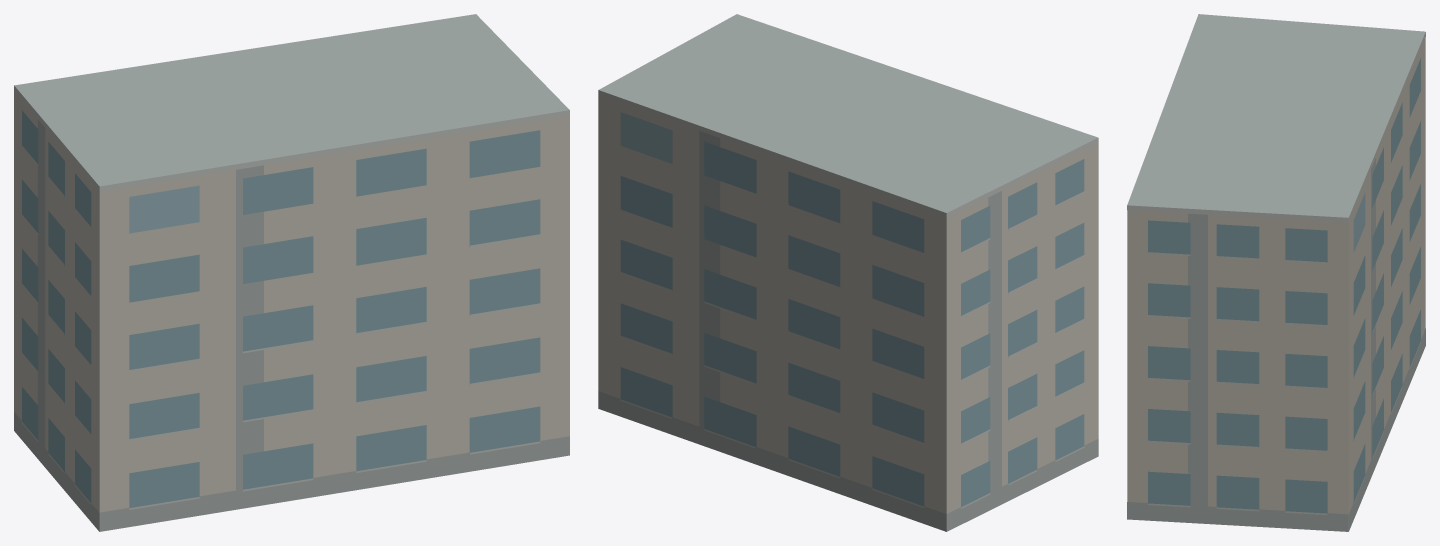
The model's file is survey-upis-32703578.glb.
3 views of the same model, side by side, from view 1: azimuth 30°, elevation 25°; view 2: azimuth 150°, elevation 25°; view 3: azimuth 270°, elevation 25° (orthographic). The views are drawn at different scales.
Parts seen in each view (by area): view 1: survey-upis-32703578.tmp; view 2: survey-upis-32703578.tmp; view 3: survey-upis-32703578.tmp.
Part boxes in pixels (left/top/right/bottom): survey-upis-32703578.tmp: left=14, top=14, right=569, bottom=531; survey-upis-32703578.tmp: left=598, top=14, right=1098, bottom=531; survey-upis-32703578.tmp: left=1127, top=14, right=1425, bottom=531.
Bounding box in the file's own units: 21.23 × 15.25 × 13.15.
